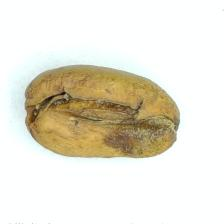NG: (33, 81, 173, 152)
